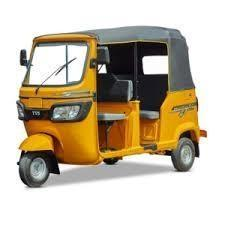keke: (16, 21, 208, 191)
